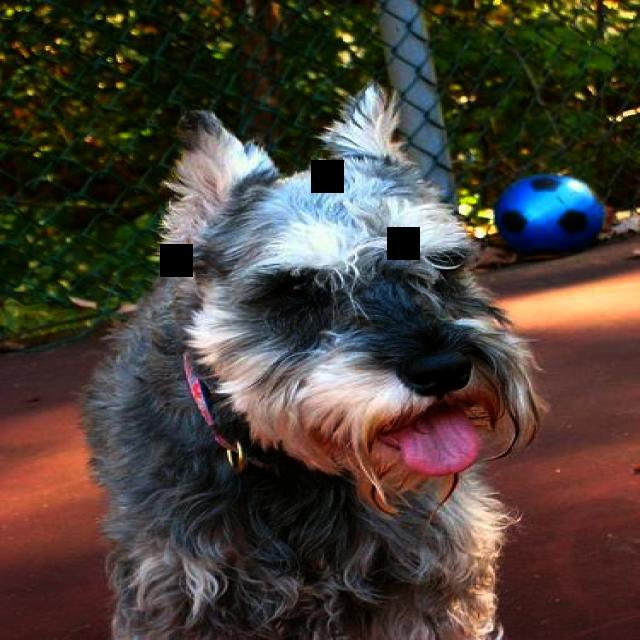adult_dog: (77, 85, 551, 640)
